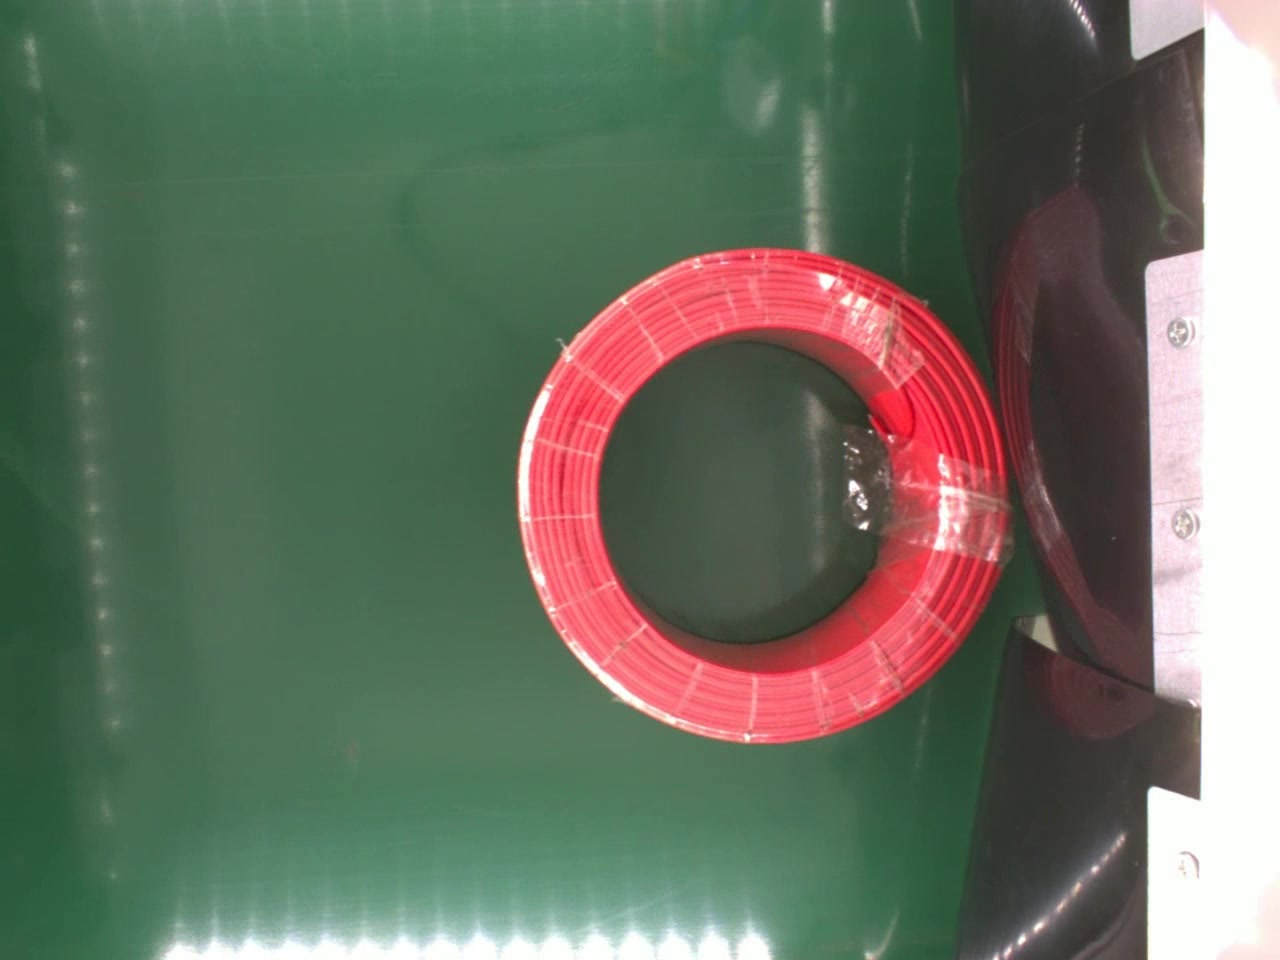red: (514, 238, 1012, 749)
